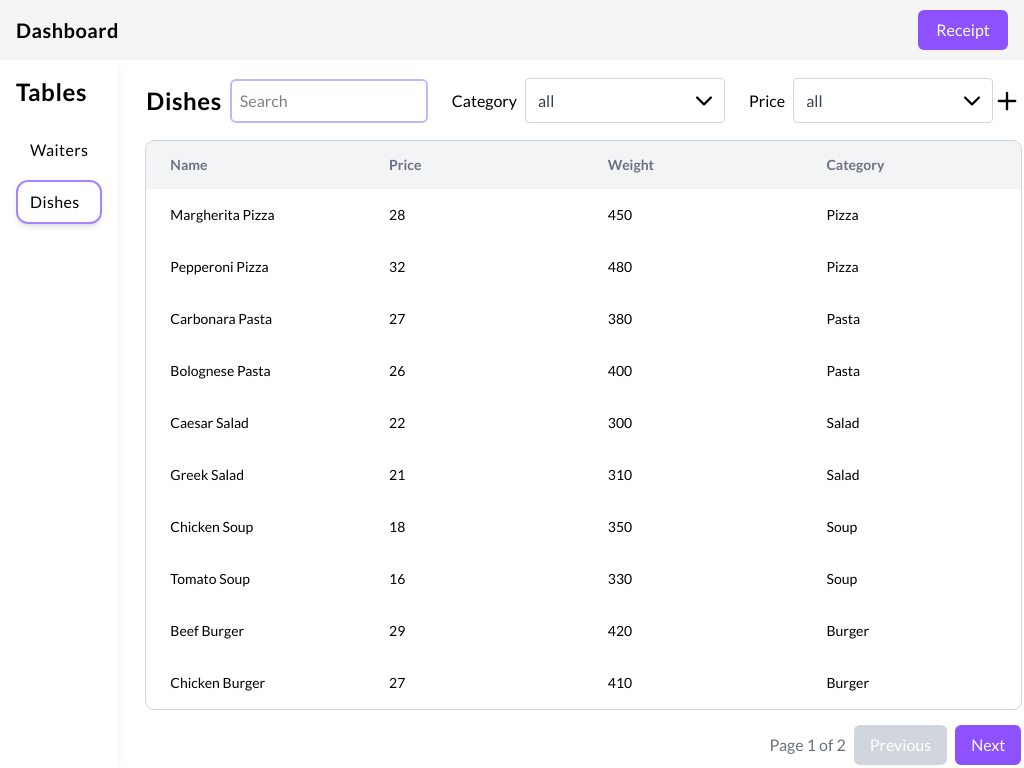
Test case: Dishes CRUD › Delete Dish
Click the row with test id "table-row-0": (223, 215) [146,189,1021,241]
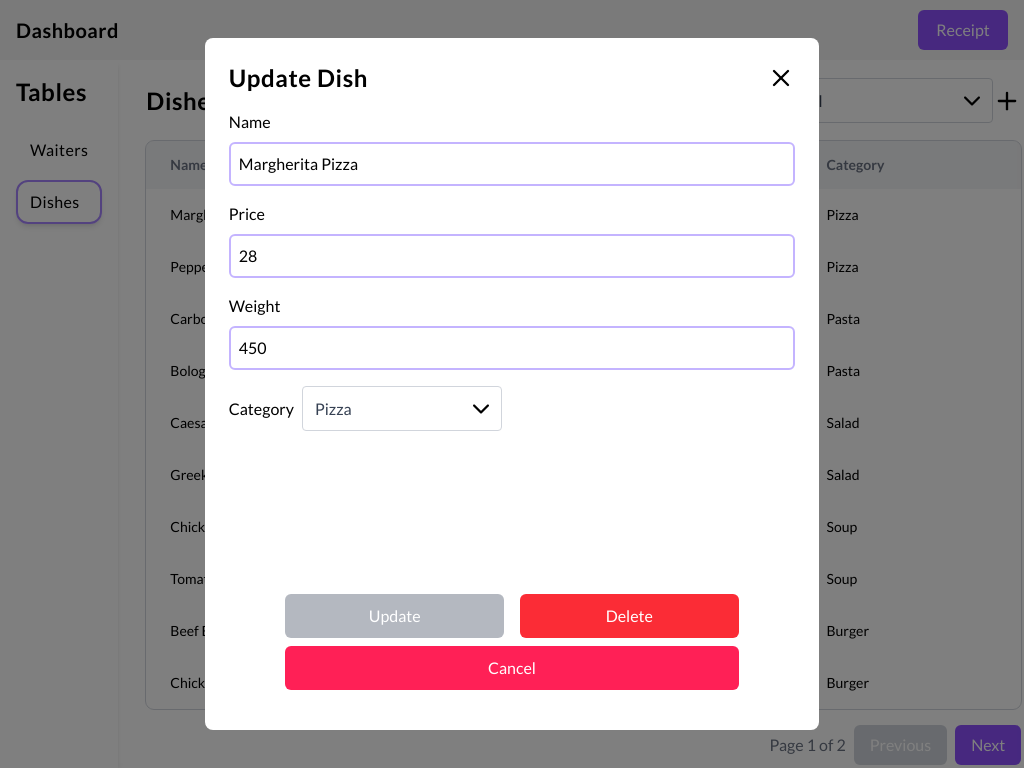
Click the button with test id "dish-dlt-btn": (630, 616) [520,594,739,638]
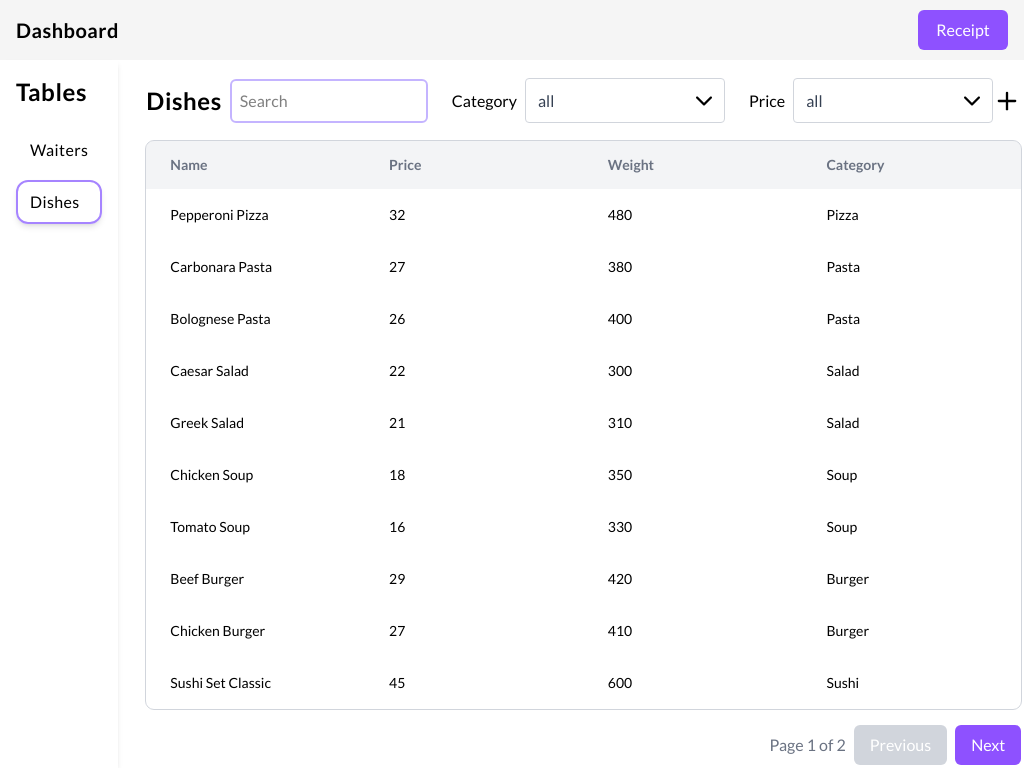
Check: the text "Margherita Pizza" is gone
